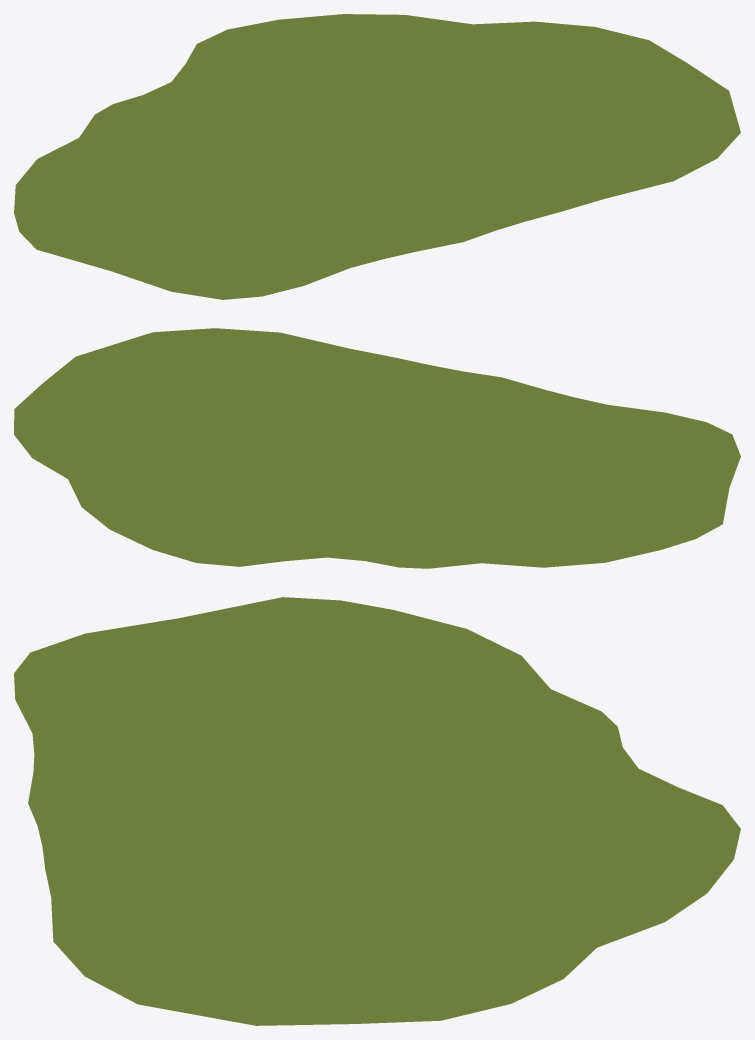
Rendered from grass_area.fbx.
3 views of the same model, one above another, from view 1: azimuth 30°, elevation 25°; view 2: azimuth 150°, elevation 25°; view 3: azimuth 270°, elevation 25° (orthographic). The views are drawn at different scales.
Parts seen in each view (by area): view 1: mesh_grass; view 2: mesh_grass; view 3: mesh_grass.
Part boxes in pixels (x1,y1,x2,y2): mesh_grass: (14, 14, 740, 299); mesh_grass: (14, 328, 740, 568); mesh_grass: (14, 597, 740, 1025).
Bounding box in the file's own units: 166 × 0.1125 × 119.
